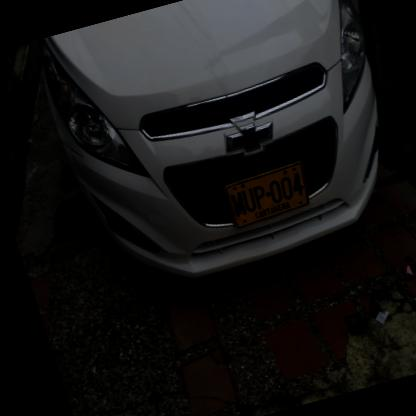placa: (213, 154, 317, 230)
